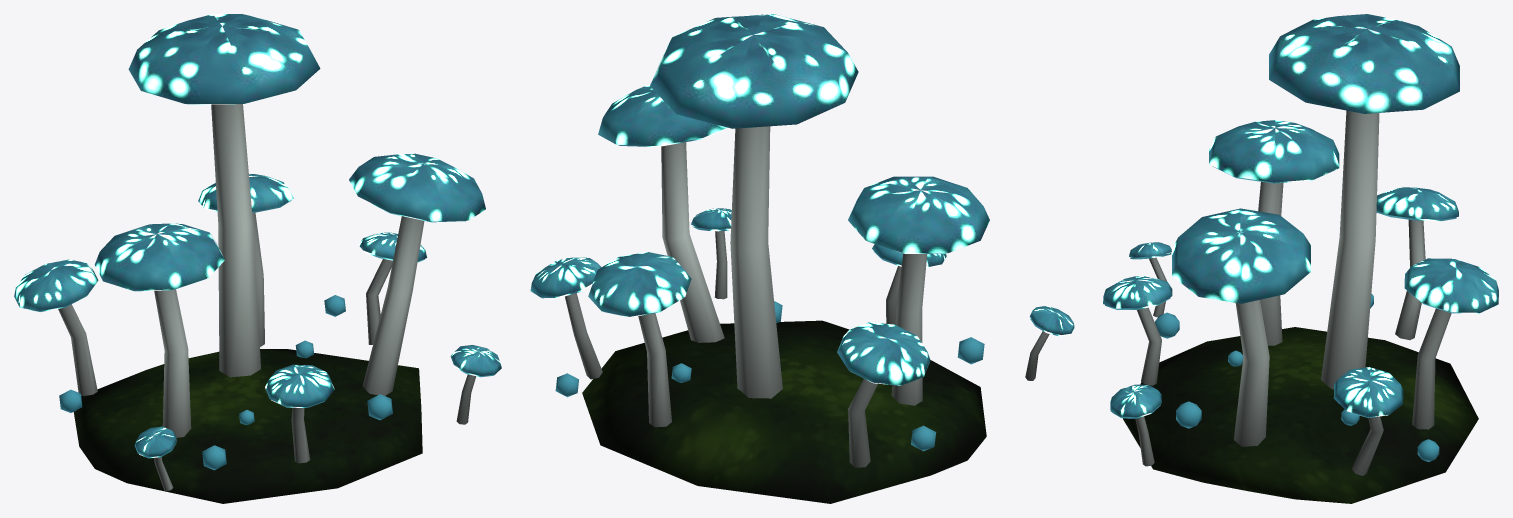
File: cave_mushrooms.glb
3 views of the same model, side by side, from view 1: azimuth 30°, elevation 25°; view 2: azimuth 150°, elevation 25°; view 3: azimuth 270°, elevation 25° (orthographic). The views are drawn at different scales.
Visible parts, largest first — view 1: cave_mushrooms; view 2: cave_mushrooms; view 3: cave_mushrooms.
Part boxes in pixels (x1,y1,x2,y2): cave_mushrooms: [14, 14, 501, 503]; cave_mushrooms: [530, 14, 1074, 503]; cave_mushrooms: [1103, 14, 1498, 503].
Bounding box in the file's own units: 1.02 × 0.9489 × 0.8656.
3 materials, 2 textured.
